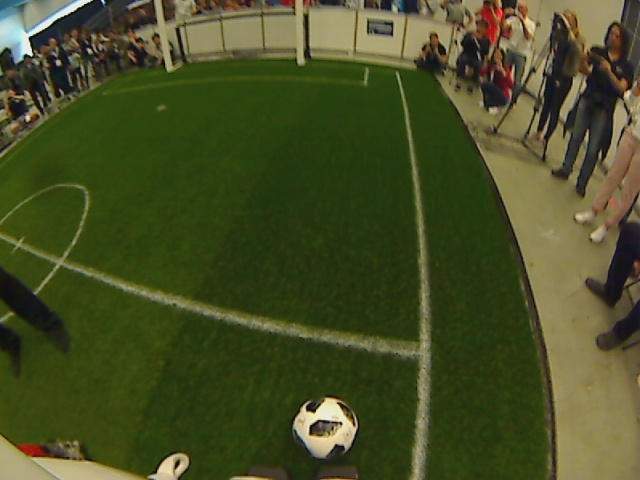ball: (291, 394, 360, 463)
